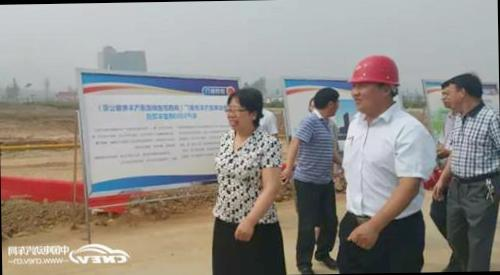no_helmet: (218, 86, 266, 138), (446, 69, 482, 116), (311, 84, 343, 122), (437, 80, 457, 111)
